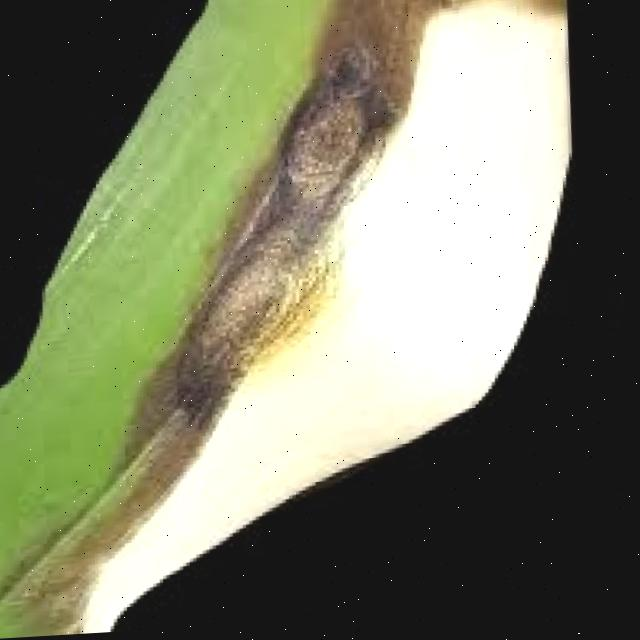mite: (327, 39, 405, 141), (331, 42, 380, 104), (618, 288, 631, 353), (444, 0, 471, 14)
